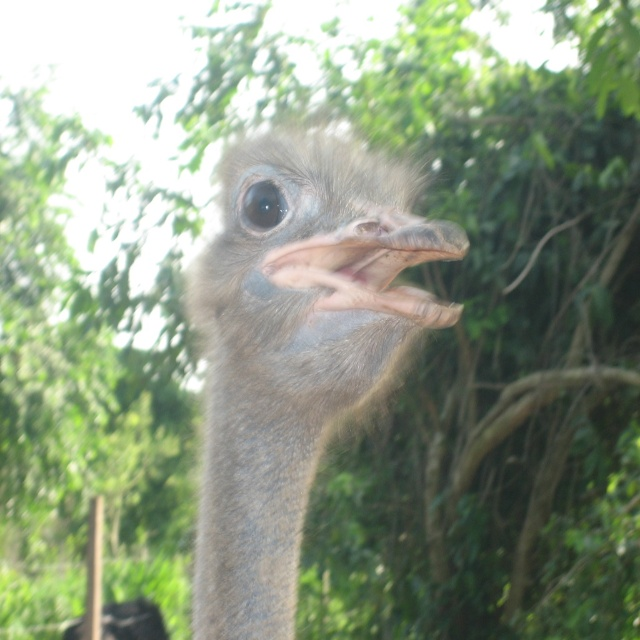Ostrich: (192, 125, 470, 638)
